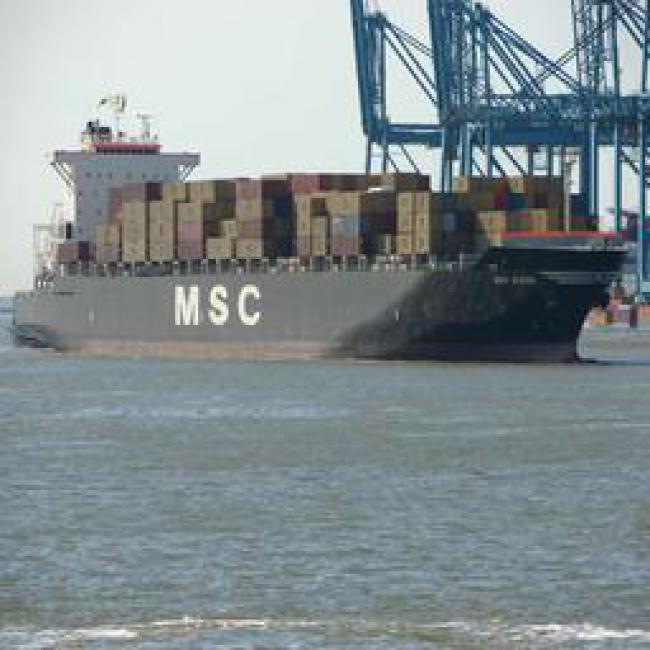Ship: (13, 144, 617, 364)
